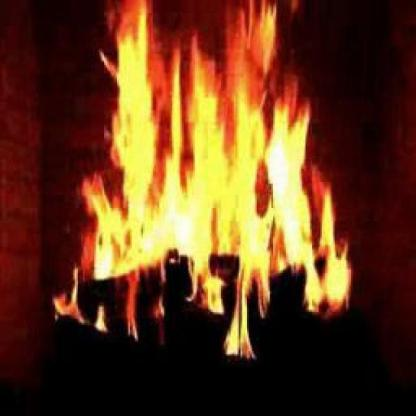fire: (46, 0, 356, 373)
